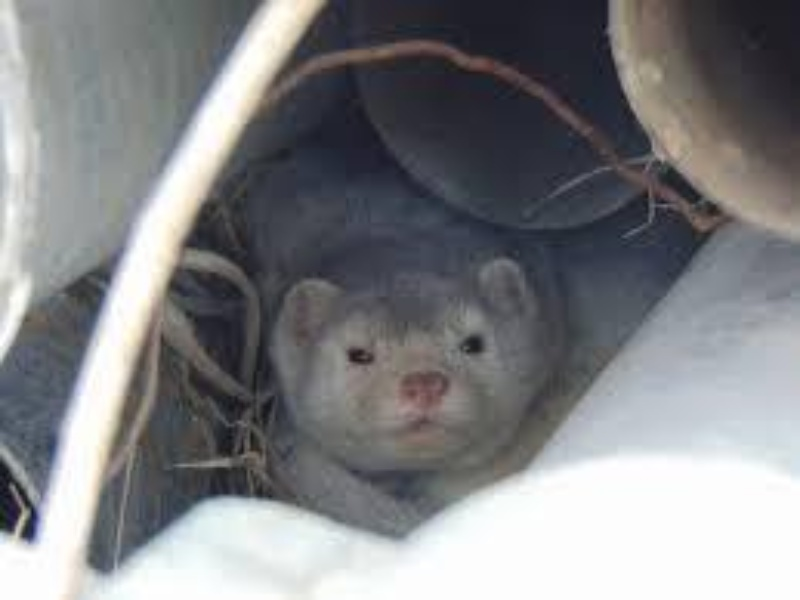minkish: (266, 257, 566, 480)
